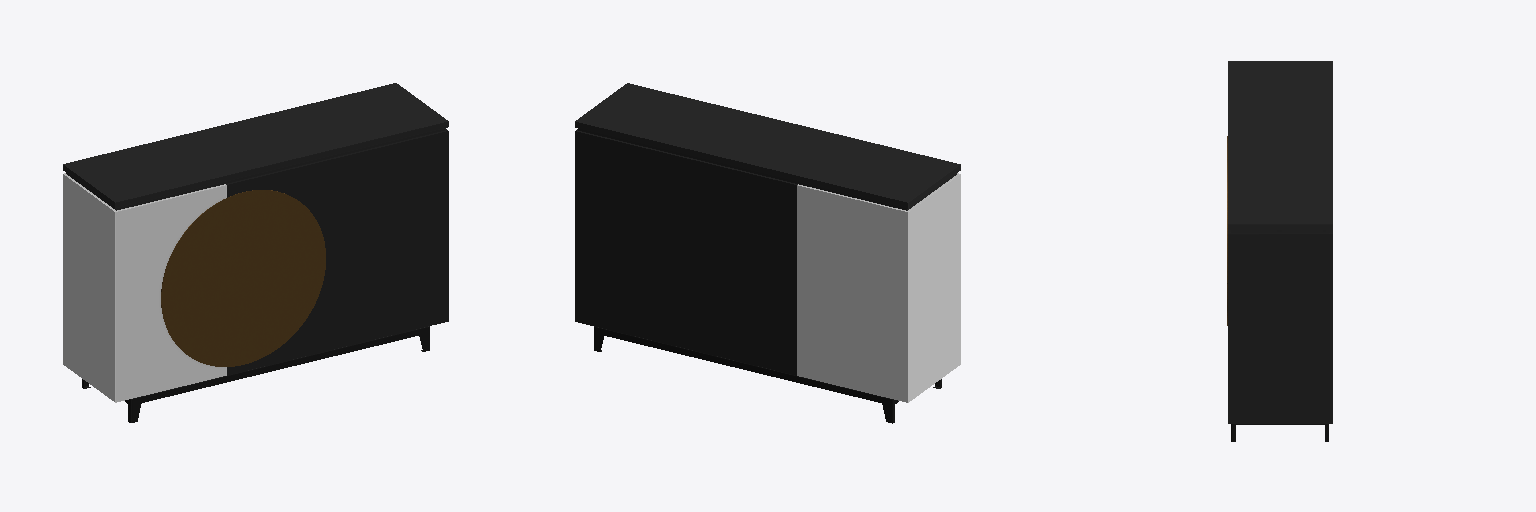
3 views of the same model, side by side, from view 1: azimuth 30°, elevation 25°; view 2: azimuth 150°, elevation 25°; view 3: azimuth 270°, elevation 25° (orthographic).
Visible parts, largest first — view 1: solid_003, solid_004, solid_002, solid_001, solid_005; view 2: solid_003, solid_004, solid_001, solid_005; view 3: solid_003, solid_001.
Boxes of the visible parts, <box> form: solid_003: <box>226,128,448,375</box>; solid_004: <box>63,173,226,402</box>; solid_002: <box>161,190,325,366</box>; solid_001: <box>63,83,448,210</box>; solid_005: <box>82,326,429,422</box>; solid_003: <box>575,129,797,375</box>; solid_004: <box>797,173,960,402</box>; solid_001: <box>575,83,960,210</box>; solid_005: <box>594,326,941,423</box>; solid_003: <box>1228,230,1332,423</box>; solid_001: <box>1228,61,1332,232</box>.
Bounding box in the file's own units: 1.17 × 0.7586 × 0.3212.
Materials: 1 (1 with a texture image).